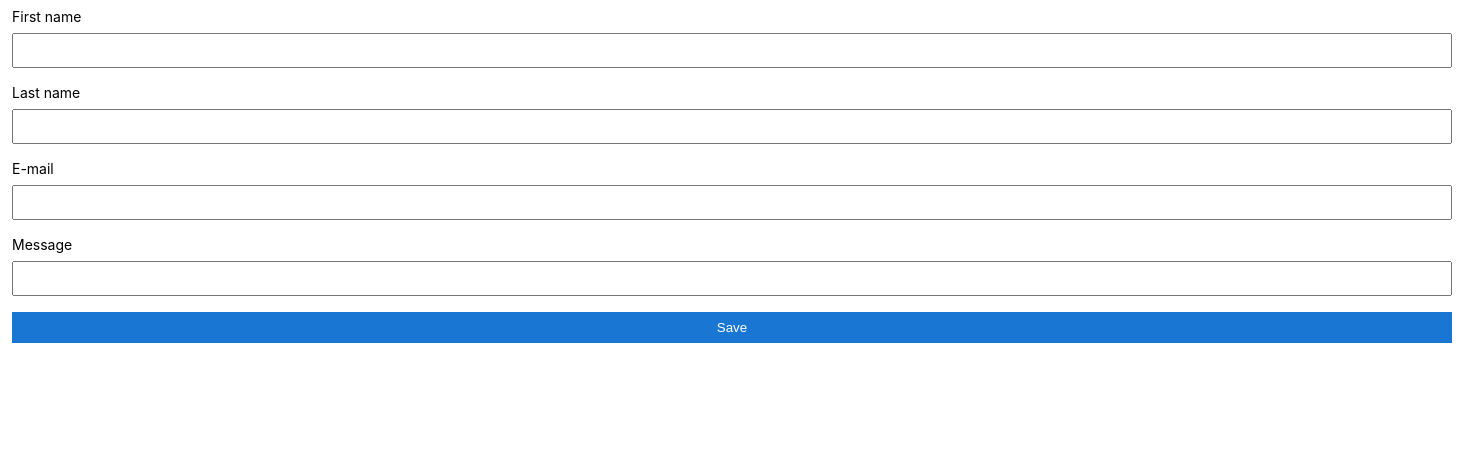
Scenario: Form › shows error messages
Click the button: coordinates (732, 328) x1=12 y1=312 x2=1452 y2=343
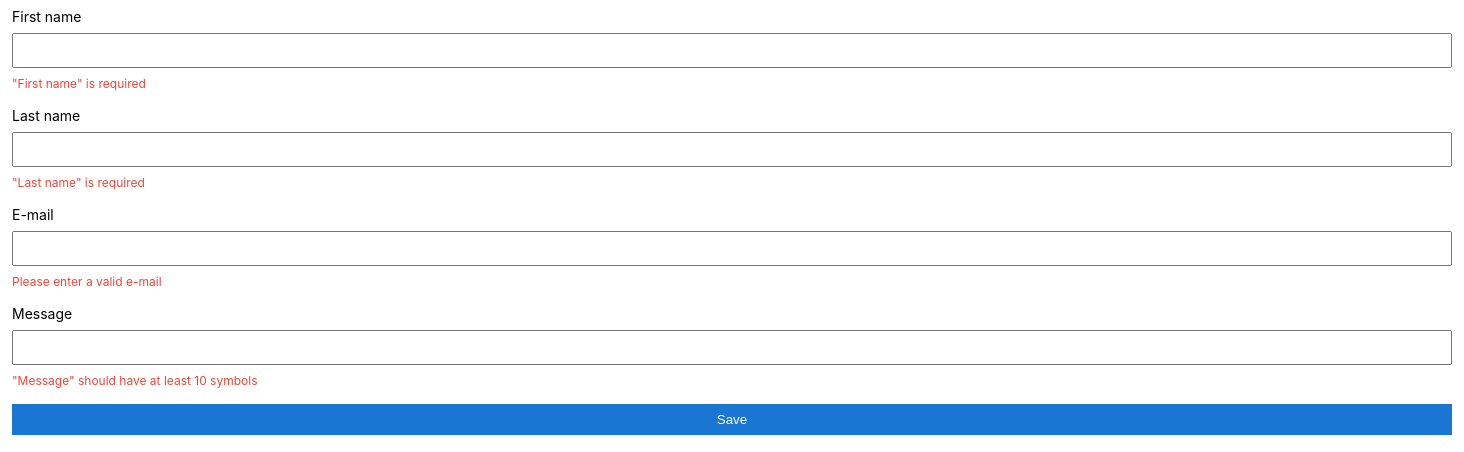
Check: the text "\"First name\" is required" is shown, box x1=12 y1=76 x2=146 y2=91
Check: the text "\"Last name\" is required" is shown, box x1=12 y1=175 x2=145 y2=190
Check: the text "Please enter a valid e-mail" is shown, box x1=12 y1=274 x2=162 y2=289
